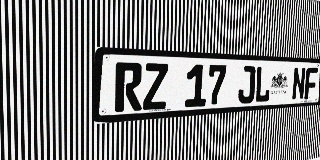1: (185, 64, 207, 107)
7: (206, 65, 227, 106)
F: (304, 67, 318, 99)
J: (238, 66, 256, 104)
L: (254, 66, 271, 103)
N: (292, 67, 306, 100)
R: (115, 62, 143, 112)
Z: (143, 63, 168, 110)
